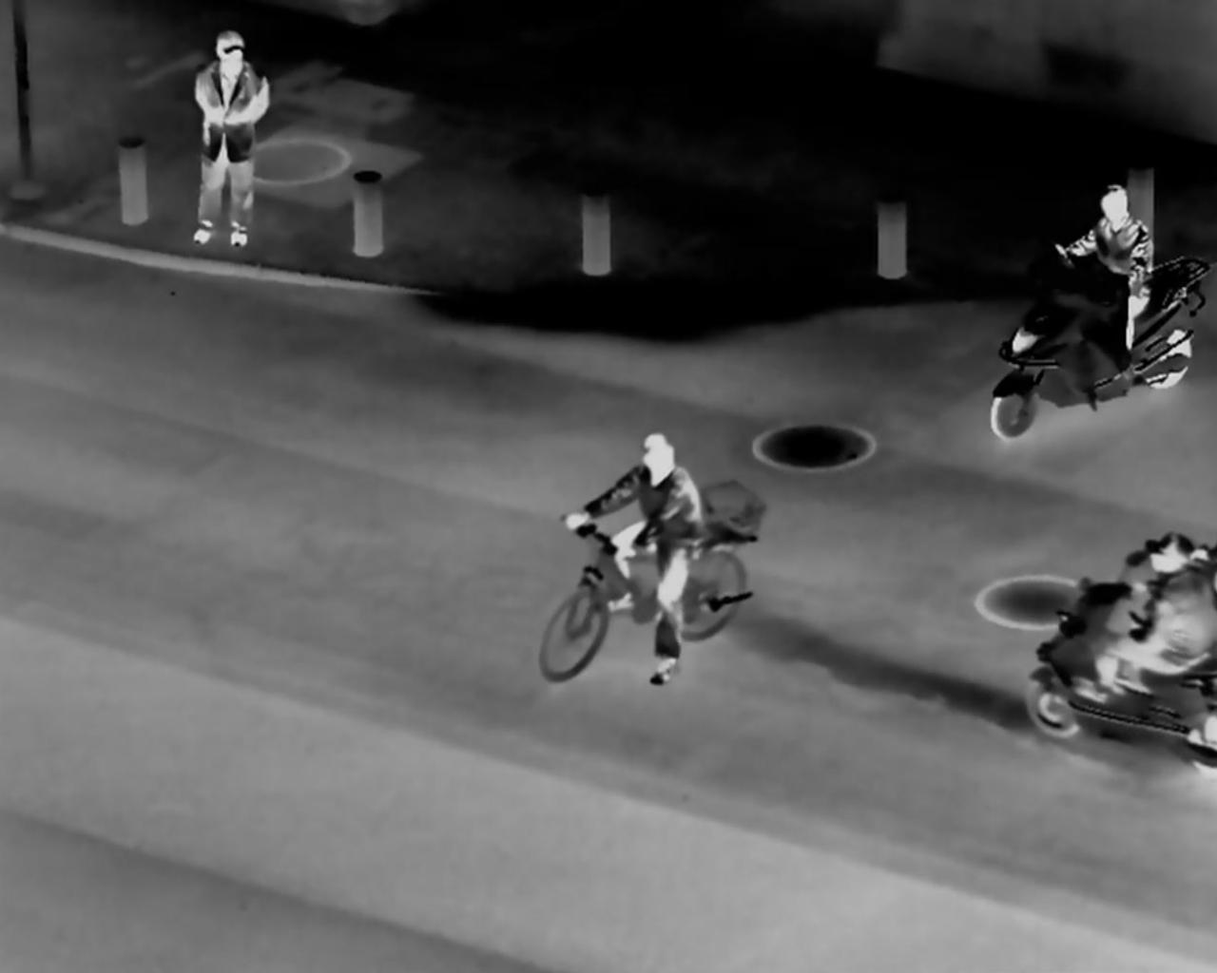person: (578, 420, 712, 697), (1107, 519, 1216, 701), (1053, 181, 1167, 346), (188, 26, 269, 253)
